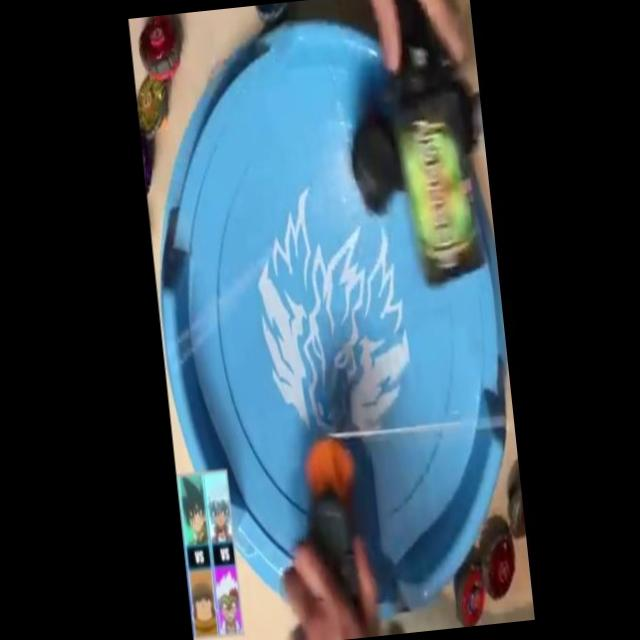Beyblade: (136, 13, 186, 82), (133, 74, 173, 140), (479, 534, 518, 600), (450, 562, 488, 628)
